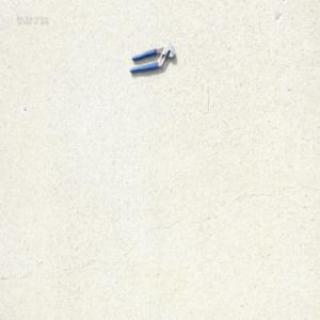Pliertrack_idkeyframe: (128, 42, 175, 74)
